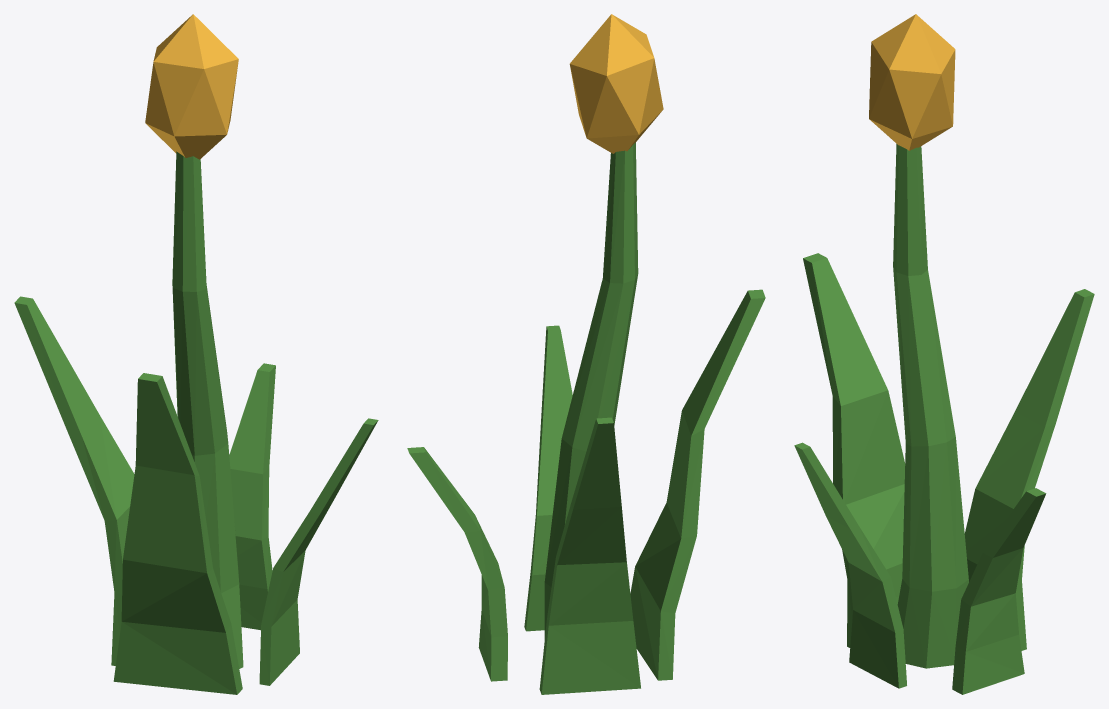
The model's file is flower_02.glb.
3 renders of one model, left to right at view 1: azimuth 30°, elevation 25°; view 2: azimuth 150°, elevation 25°; view 3: azimuth 270°, elevation 25°, orthographic. The views are drawn at different scales.
Parts seen in each view (by area): view 1: Object_99, Object_100; view 2: Object_99, Object_100; view 3: Object_99, Object_100.
Boxes of the visible parts, x1=… form: Object_99: x1=14, y1=151, x2=378, y2=694; Object_100: x1=145, y1=14, x2=238, y2=159; Object_99: x1=407, y1=142, x2=765, y2=694; Object_100: x1=569, y1=14, x2=663, y2=153; Object_99: x1=794, y1=144, x2=1094, y2=694; Object_100: x1=869, y1=14, x2=955, y2=150.
Size of the model in its own units: 0.6444 by 1.6 by 0.6942.
